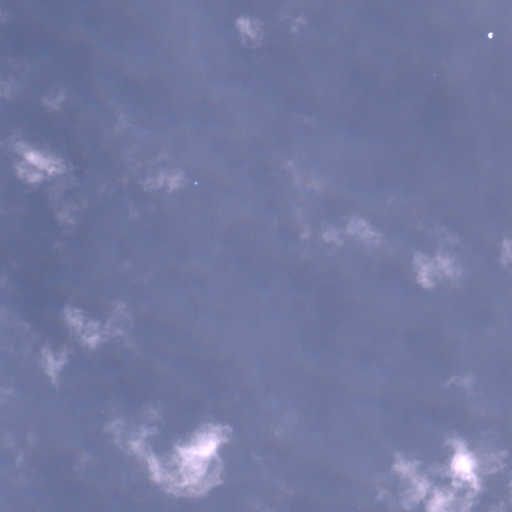Iceberg: (487, 32, 493, 38), (194, 182, 197, 184), (434, 74, 435, 75)
